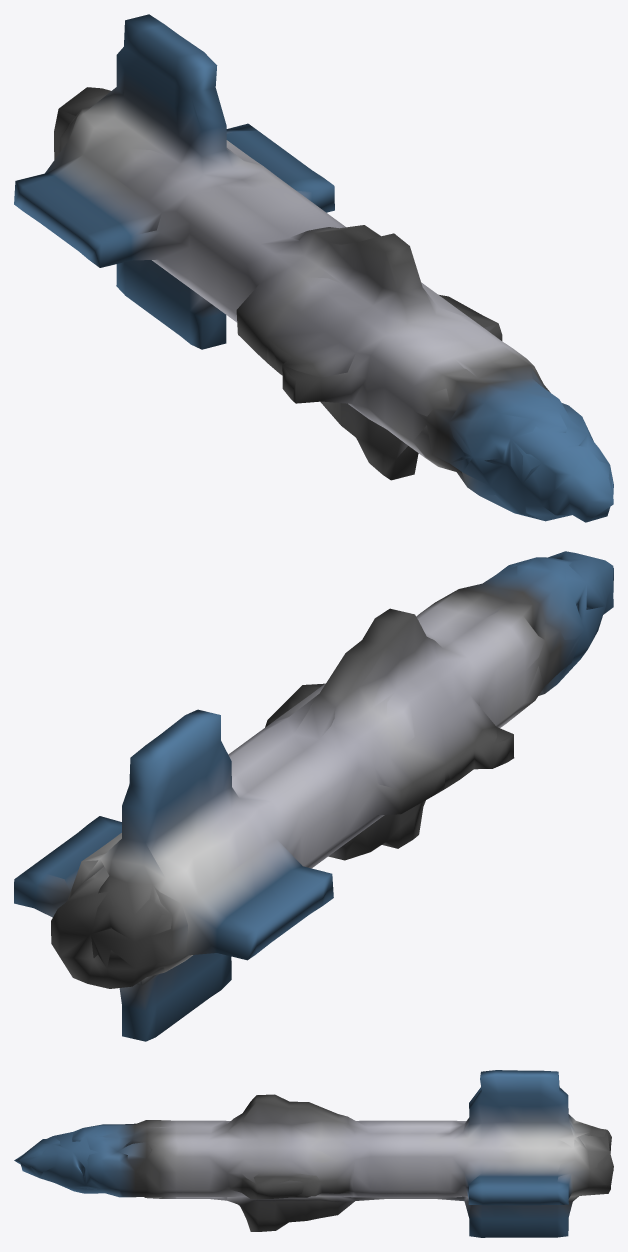
The model's file is v3_rocket.glb.
The picture shows the model from 3 angles, top to bottom: view 1: azimuth 30°, elevation 25°; view 2: azimuth 150°, elevation 25°; view 3: azimuth 270°, elevation 25°; orthographic projection. The views are drawn at different scales.
Visible parts, largest first — view 1: v3_rocket; view 2: v3_rocket; view 3: v3_rocket.
Part boxes in pixels (x1,y1,x2,y2): v3_rocket: (14, 14, 613, 522); v3_rocket: (14, 551, 613, 1041); v3_rocket: (14, 1070, 613, 1237).
Bounding box in the file's own units: 1.43 × 1.61 × 5.45.
